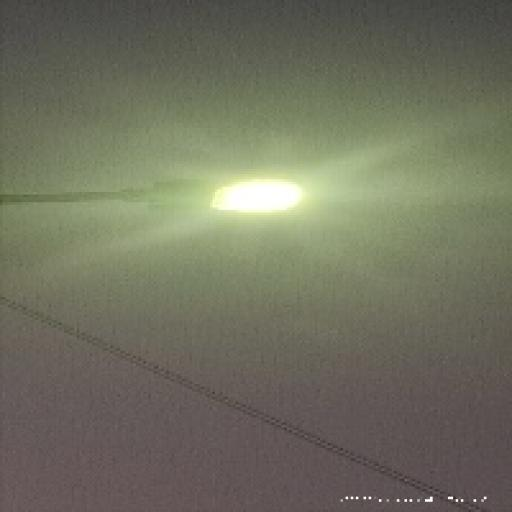Working: (132, 157, 334, 231)
